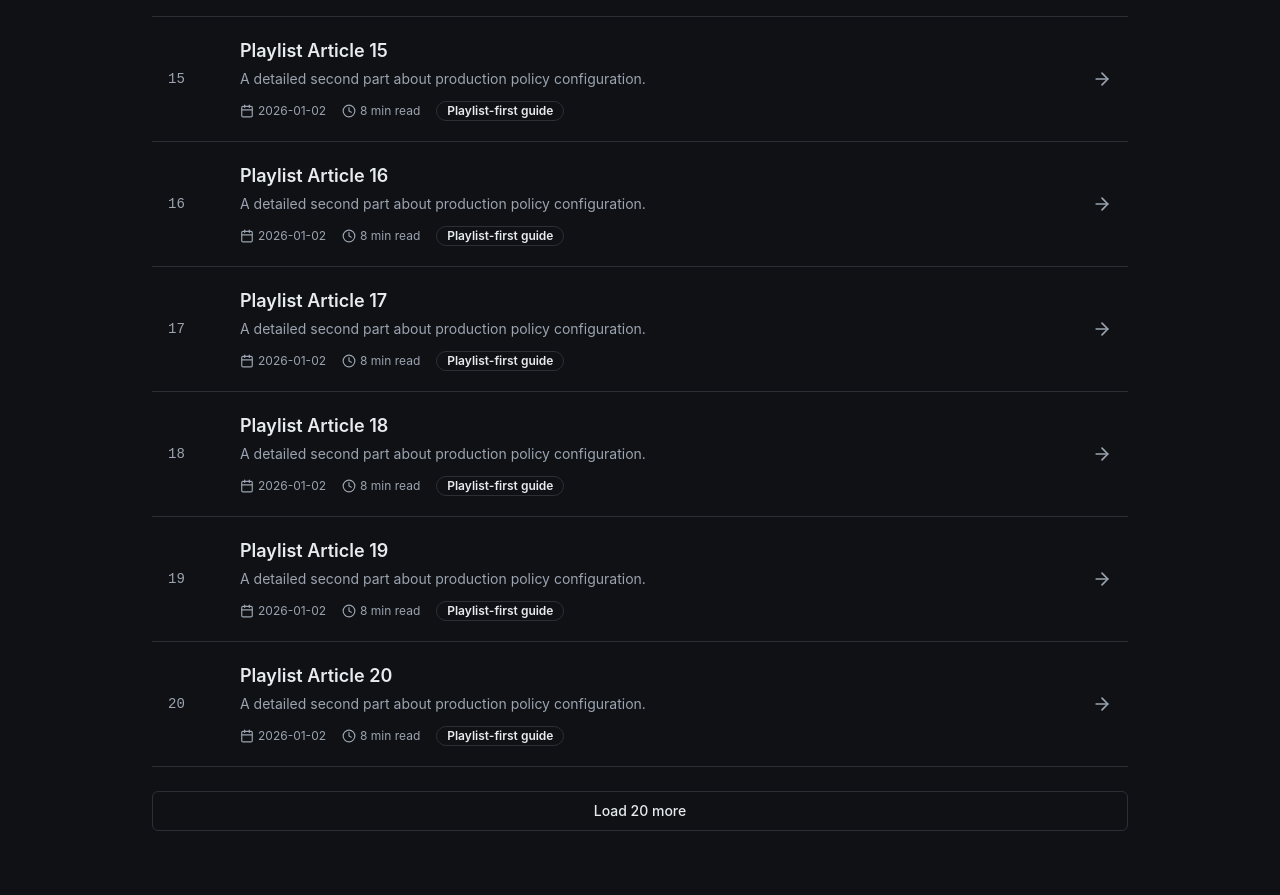
Test: Playlist page › renders large playlists progressively in groups of twenty
(page scrolled)
Expected: the text "Playlist Article 21" is not shown
Click the button "Load 20 more" at (640, 811), box x1=152 y1=791 x2=1128 y2=831
(page scrolled)
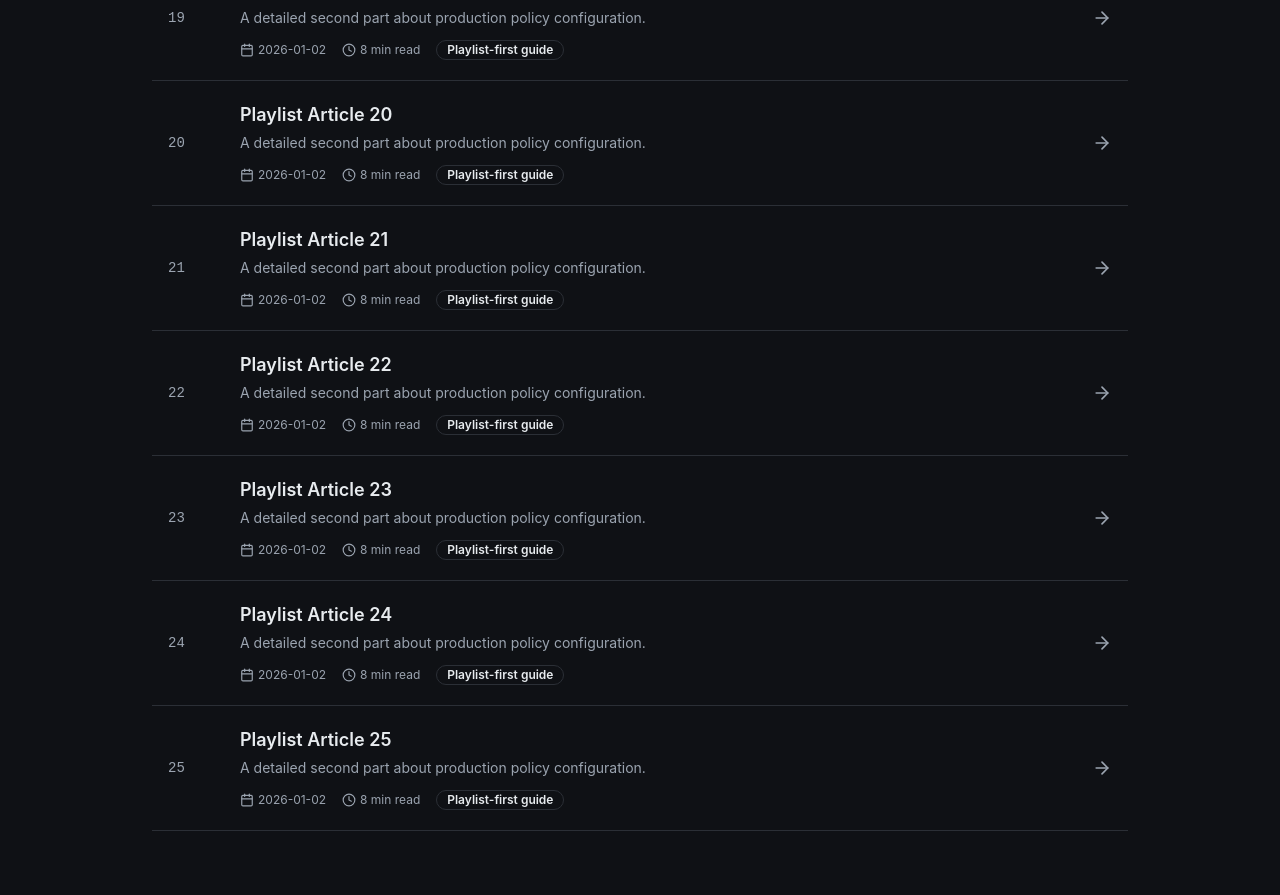
Expected: the text "Playlist Article 25" is shown, x1=240 y1=729 x2=392 y2=750
